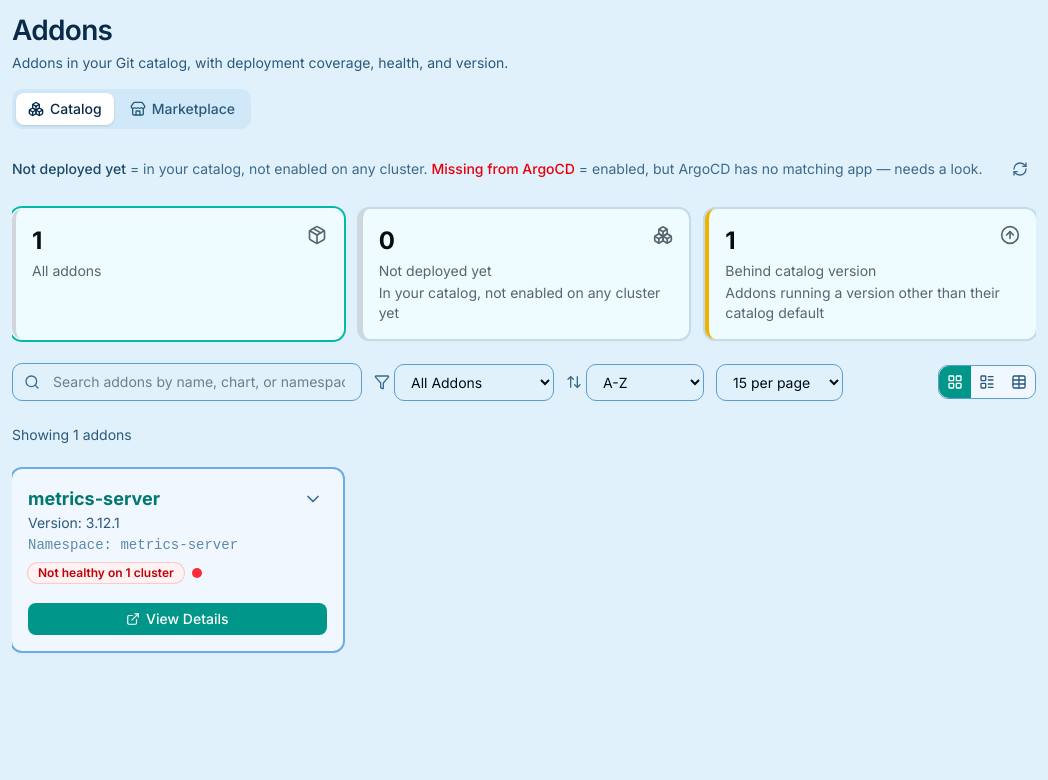
Test: AddonCatalog — DeploymentBadge (V126-3.1) › v4.0.4 U3 — an addon enabled on one cluster, not healthy there › list view shows the same badge as the grid
The width and height of the screenshot is (1048, 780).
Expected: the text "Not healthy on 1 cluster" is shown, [28,563,184,583]
Click the button named "List view": (987, 382) [971,366,1003,398]
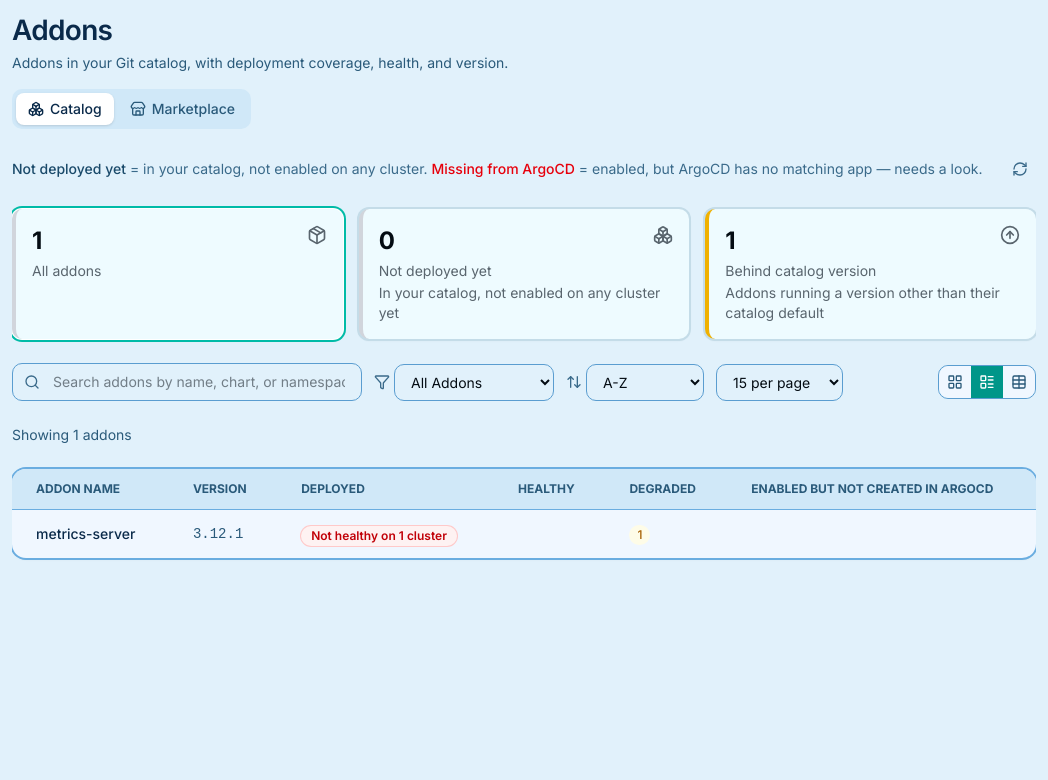
Expected: the text "Not healthy on 1 cluster" is shown, [301,526,457,546]
Expected: the text "metrics-server" is shown, [36,525,135,542]
